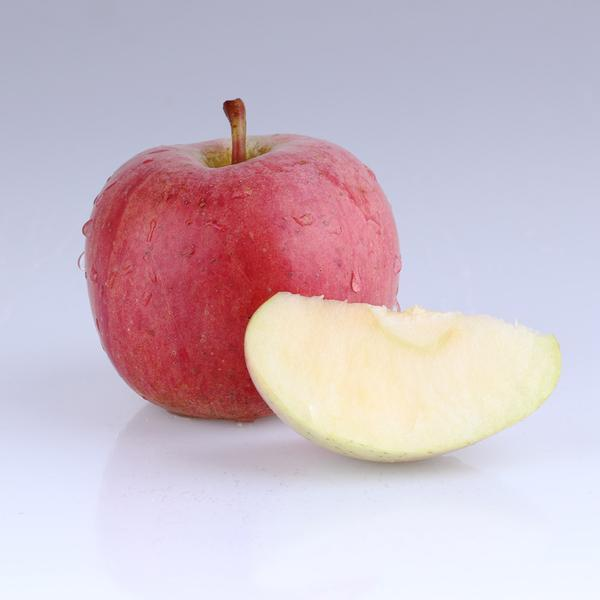apple: (76, 100, 400, 431)
